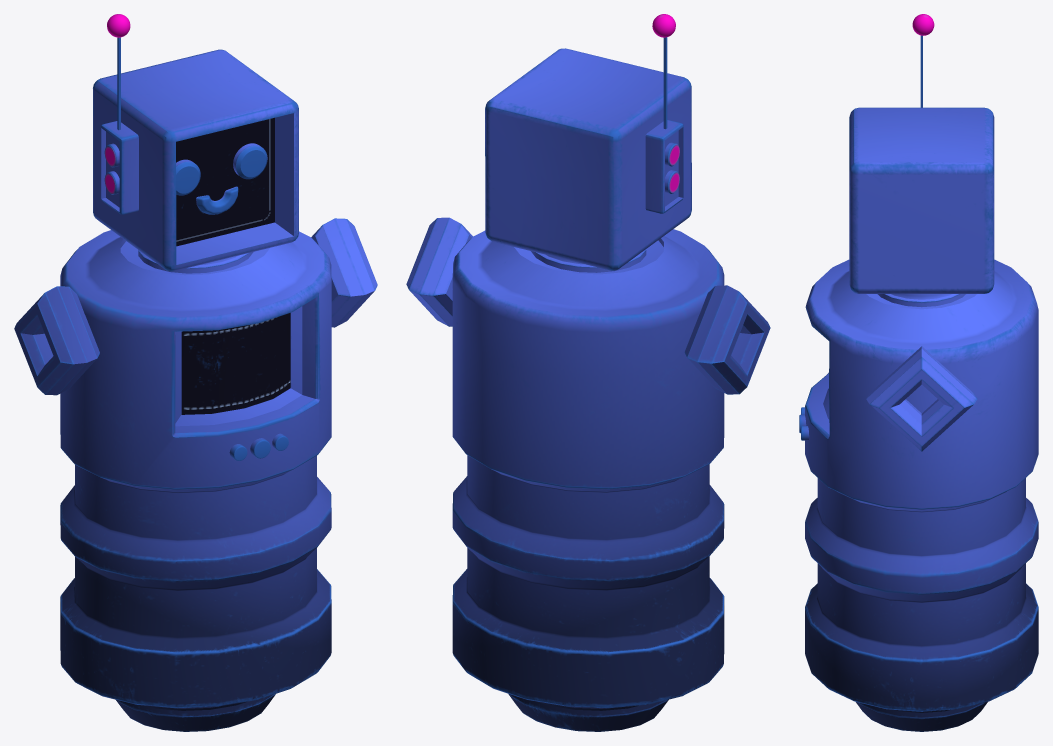
The model's file is robot body base.fbx.
The picture shows the model from 3 angles, left to right: view 1: azimuth 30°, elevation 25°; view 2: azimuth 150°, elevation 25°; view 3: azimuth 270°, elevation 25°; orthographic projection. The views are drawn at different scales.
Parts seen in each view (by area): view 1: bodybase; view 2: bodybase; view 3: bodybase.
Part boxes in pixels (x1,y1,x2,y2): bodybase: (14,14,377,731); bodybase: (406,14,770,731); bodybase: (799,14,1038,731).
Bounding box in the file's own units: 31.03 × 66.08 × 21.91.
